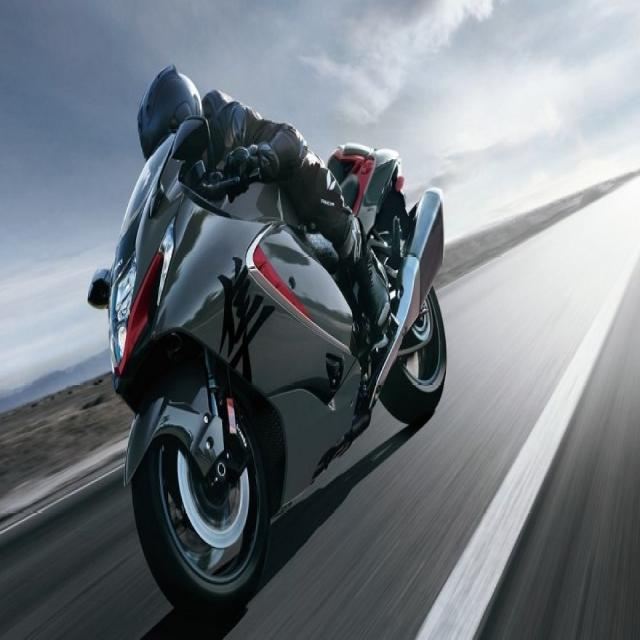Bike: (87, 120, 448, 615)
